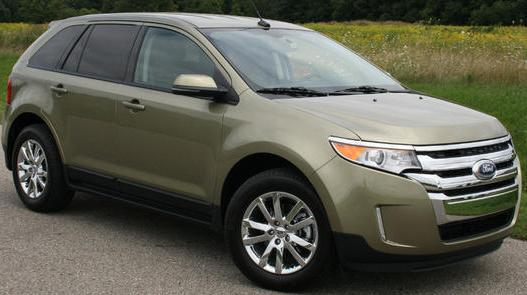front_view: (324, 121, 526, 245)
headlight: (327, 129, 421, 181)
side_glass: (66, 20, 242, 101)
